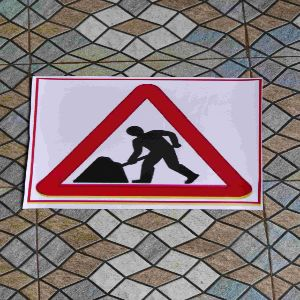men at work: (33, 77, 264, 207)
